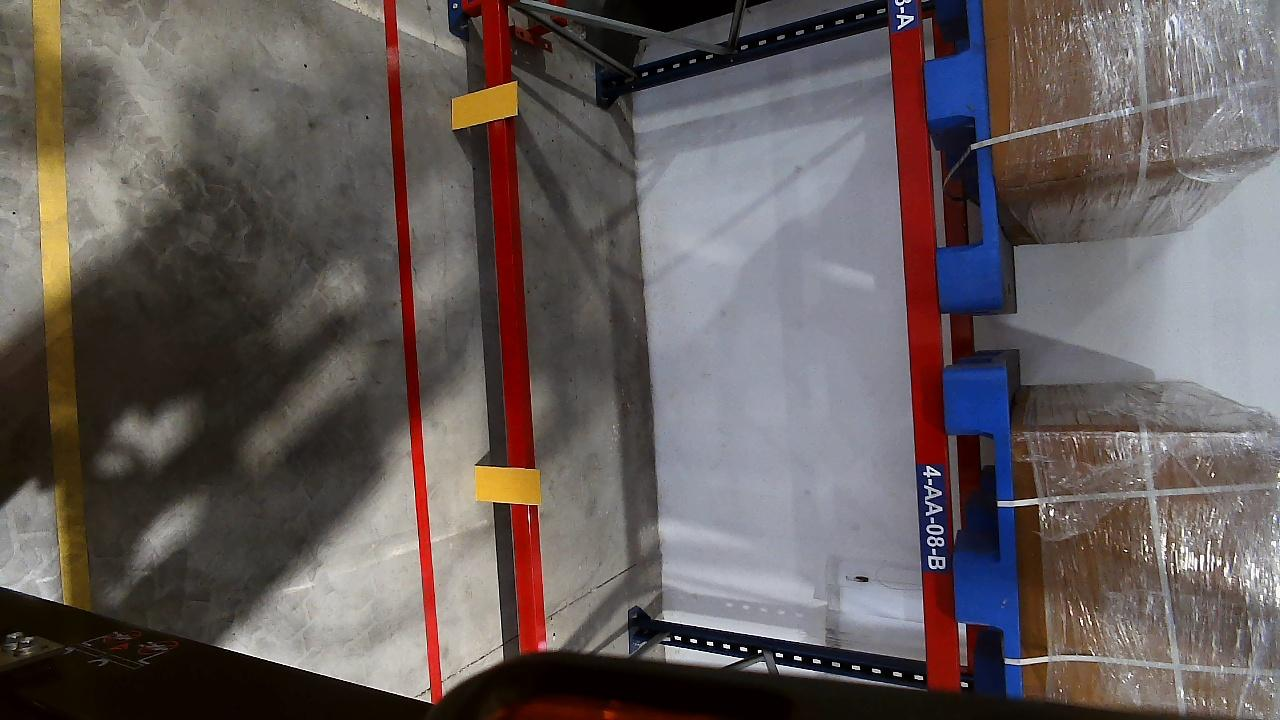h_rack: (476, 1, 556, 647), (888, 0, 955, 683)
orange_strip: (451, 82, 519, 128), (473, 466, 540, 505)
red_line: (368, 0, 448, 697)
small_pallet: (916, 1, 1008, 304), (943, 377, 1028, 691)
yellow_line: (19, 0, 97, 599)
